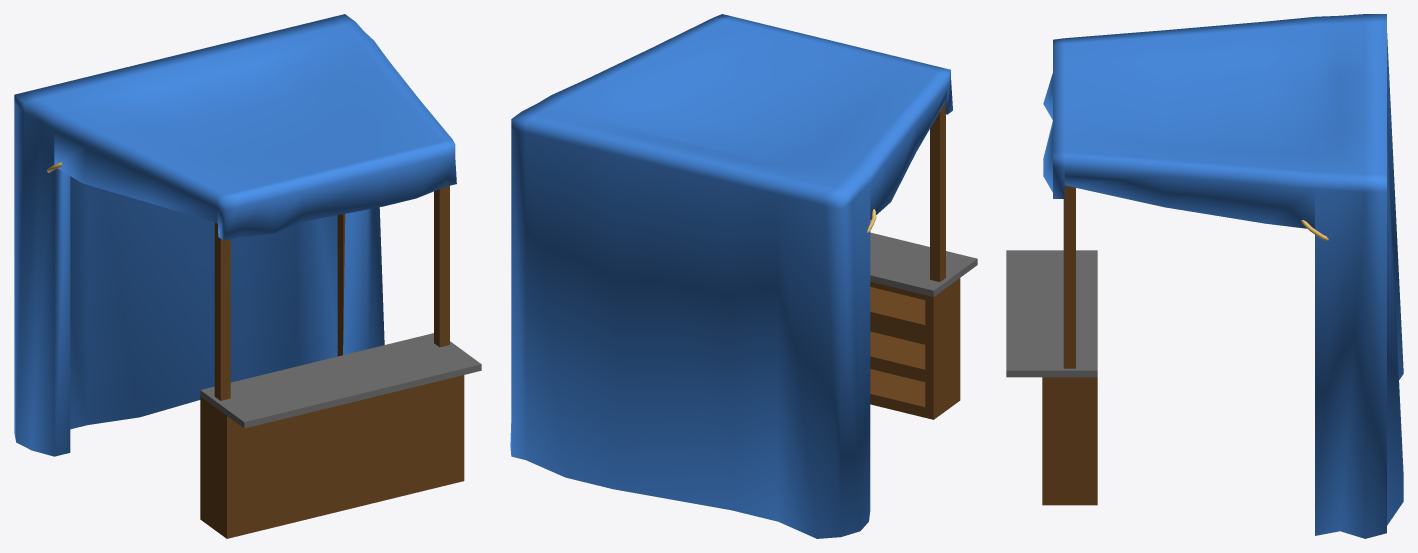
Rendered from stand.fbx.
3 renders of one model, left to right at view 1: azimuth 30°, elevation 25°; view 2: azimuth 150°, elevation 25°; view 3: azimuth 270°, elevation 25°, orthographic. The views are drawn at different scales.
Visible parts, largest first — view 1: Stand Tarp, Stand; view 2: Stand Tarp, Stand; view 3: Stand Tarp, Stand.
Boxes of the visible parts, x1,y1,x2,y2 form: Stand Tarp: (14,14,456,456); Stand: (200,186,481,538); Stand Tarp: (510,14,952,538); Stand: (870,102,977,419); Stand Tarp: (1043,14,1403,538); Stand: (1006,185,1097,505).
Bounding box in the file's own units: 287 × 271 × 264.
